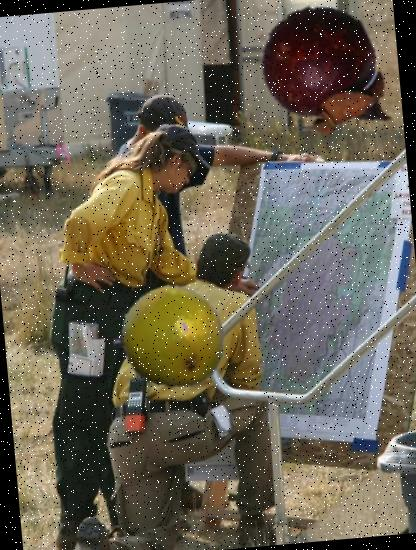Mangostan: (247, 0, 402, 152)
Maracuja: (111, 281, 229, 399)
